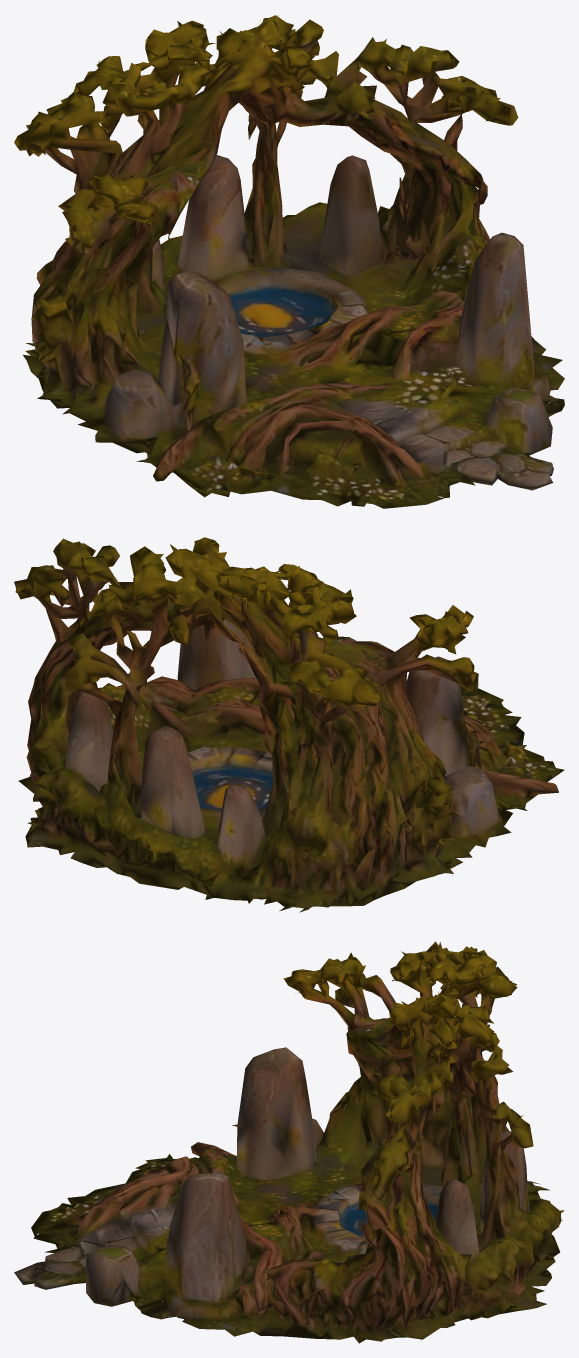
3 renders of one model, top to bottom at view 1: azimuth 30°, elevation 25°; view 2: azimuth 150°, elevation 25°; view 3: azimuth 270°, elevation 25°, orthographic. The views are drawn at different scales.
Visible parts, largest first — view 1: tripo_node_c69f46bf-3beb-486a-8897-098da75cefc2; view 2: tripo_node_c69f46bf-3beb-486a-8897-098da75cefc2; view 3: tripo_node_c69f46bf-3beb-486a-8897-098da75cefc2.
Boxes of the visible parts, <box> form: tripo_node_c69f46bf-3beb-486a-8897-098da75cefc2: <box>14,15,564,508</box>; tripo_node_c69f46bf-3beb-486a-8897-098da75cefc2: <box>14,537,564,912</box>; tripo_node_c69f46bf-3beb-486a-8897-098da75cefc2: <box>14,941,564,1343</box>.
Bounding box in the file's own units: 3.16 × 2.14 × 3.6.
1 material, 1 textured.
